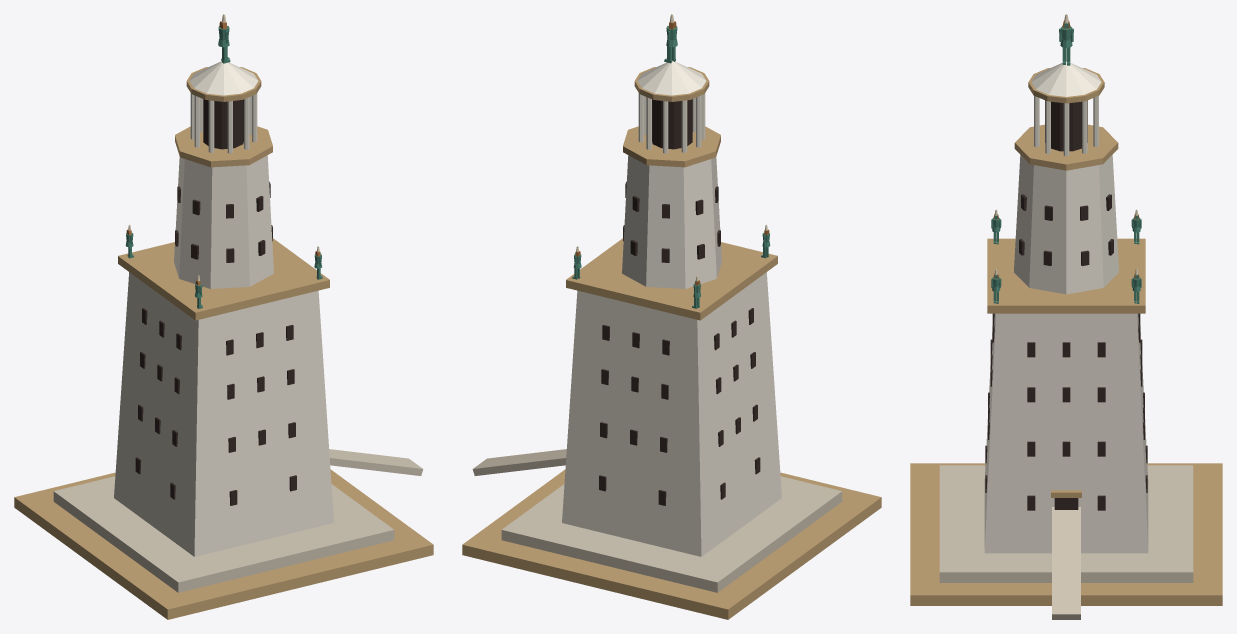
File: faros.glb
3 views of the same model, side by side, from view 1: azimuth 30°, elevation 25°; view 2: azimuth 150°, elevation 25°; view 3: azimuth 270°, elevation 25° (orthographic).
Parts seen in each view (by area): view 1: faros; view 2: faros; view 3: faros.
Part boxes in pixels (x1,y1,x2,y2): faros: [14, 14, 433, 619]; faros: [462, 14, 881, 619]; faros: [910, 14, 1222, 619].
Size of the model in its own units: 39.13 by 59.5 by 32.
